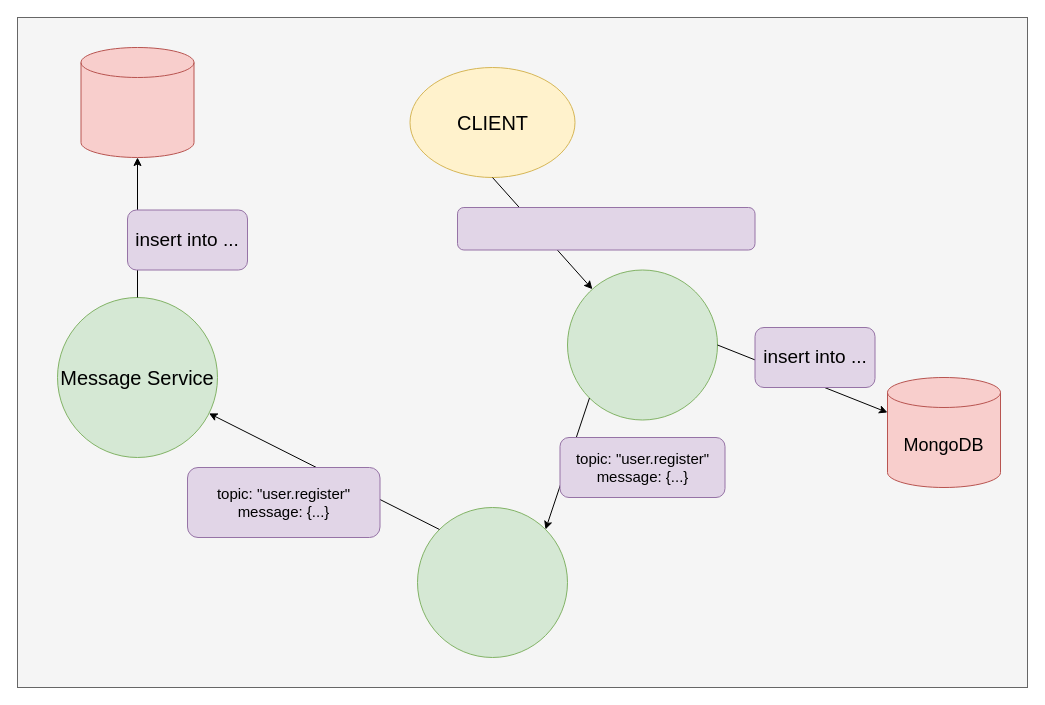
This 1045x705 diagram has some shape labels left out. Each missing label, with the centre of its shape:
"POST: host:8080/api/v1/users" belongs at (x=605, y=228).
"PostgreSQL" belongs at (x=137, y=102).
"RabbitMQ" belongs at (x=492, y=582).
"User Service" belongs at (x=642, y=344).
